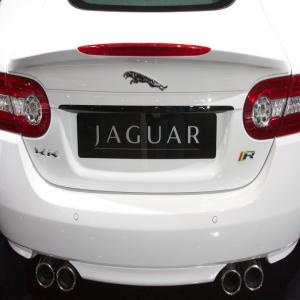Vehicle-registration-plate: (69, 100, 239, 175)
